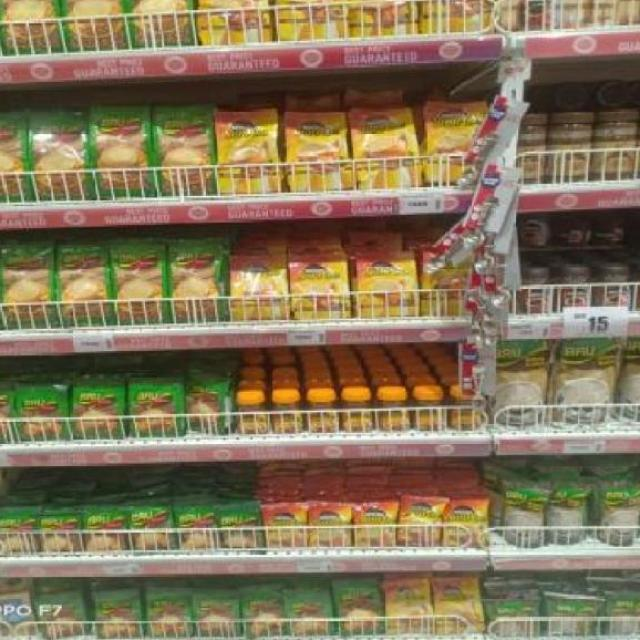Coffee: (216, 111, 280, 194), (353, 111, 418, 189), (286, 112, 349, 192), (424, 102, 483, 184), (290, 258, 350, 320), (228, 256, 286, 319), (358, 260, 418, 318), (199, 0, 269, 45), (422, 252, 469, 314), (276, 0, 347, 41), (433, 578, 481, 634), (348, 0, 417, 37), (385, 581, 433, 634), (422, 0, 491, 33), (400, 498, 441, 547), (445, 503, 487, 548), (265, 506, 307, 548), (354, 507, 396, 546), (313, 506, 349, 548), (518, 270, 549, 316), (374, 393, 409, 432), (598, 271, 632, 309), (413, 391, 446, 430), (342, 393, 375, 432), (236, 395, 269, 433), (451, 390, 481, 431), (559, 270, 591, 308), (272, 395, 304, 433), (306, 395, 336, 433)
